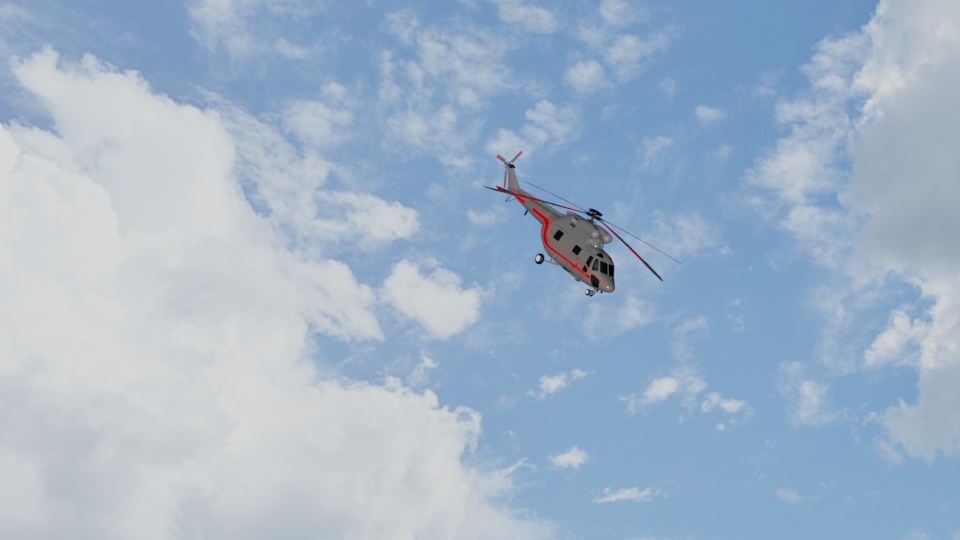heli: (481, 148, 673, 299)
